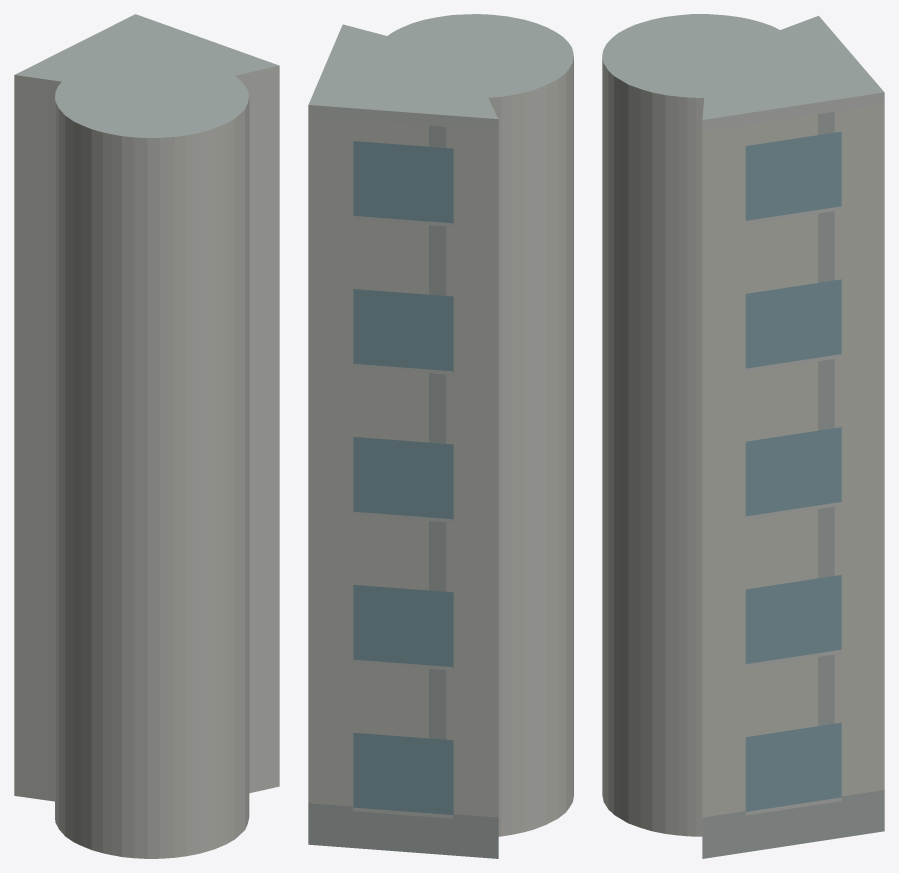
The model's file is survey-upis-32897750.glb.
3 renders of one model, left to right at view 1: azimuth 30°, elevation 25°; view 2: azimuth 150°, elevation 25°; view 3: azimuth 270°, elevation 25°, orthographic. The views are drawn at different scales.
Parts seen in each view (by area): view 1: survey-upis-32897750.tmp; view 2: survey-upis-32897750.tmp; view 3: survey-upis-32897750.tmp.
Part boxes in pixels (left/top/right/bottom): survey-upis-32897750.tmp: left=14, top=14, right=279, bottom=858; survey-upis-32897750.tmp: left=308, top=14, right=573, bottom=858; survey-upis-32897750.tmp: left=602, top=14, right=884, bottom=858.
Size of the model in its own units: 4.7 by 15.25 by 5.29.
